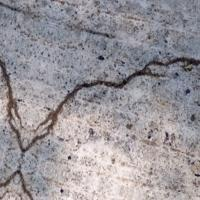crack: (0, 51, 199, 196)
